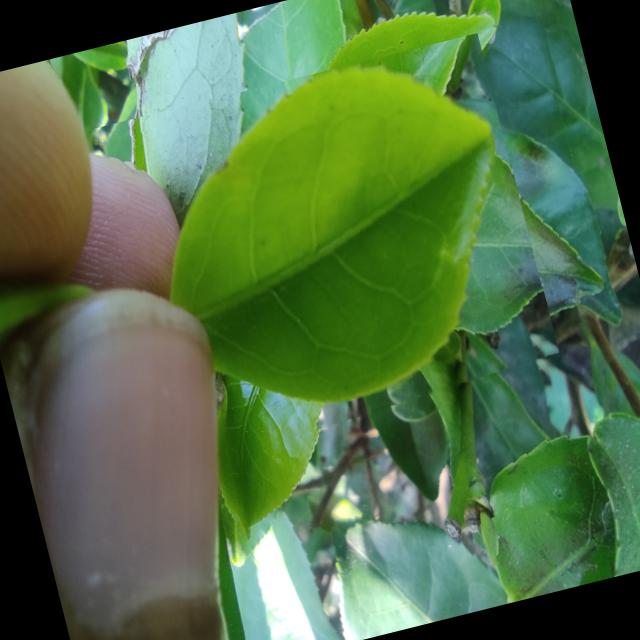Category C(4-7 days): (95, 31, 565, 472)
